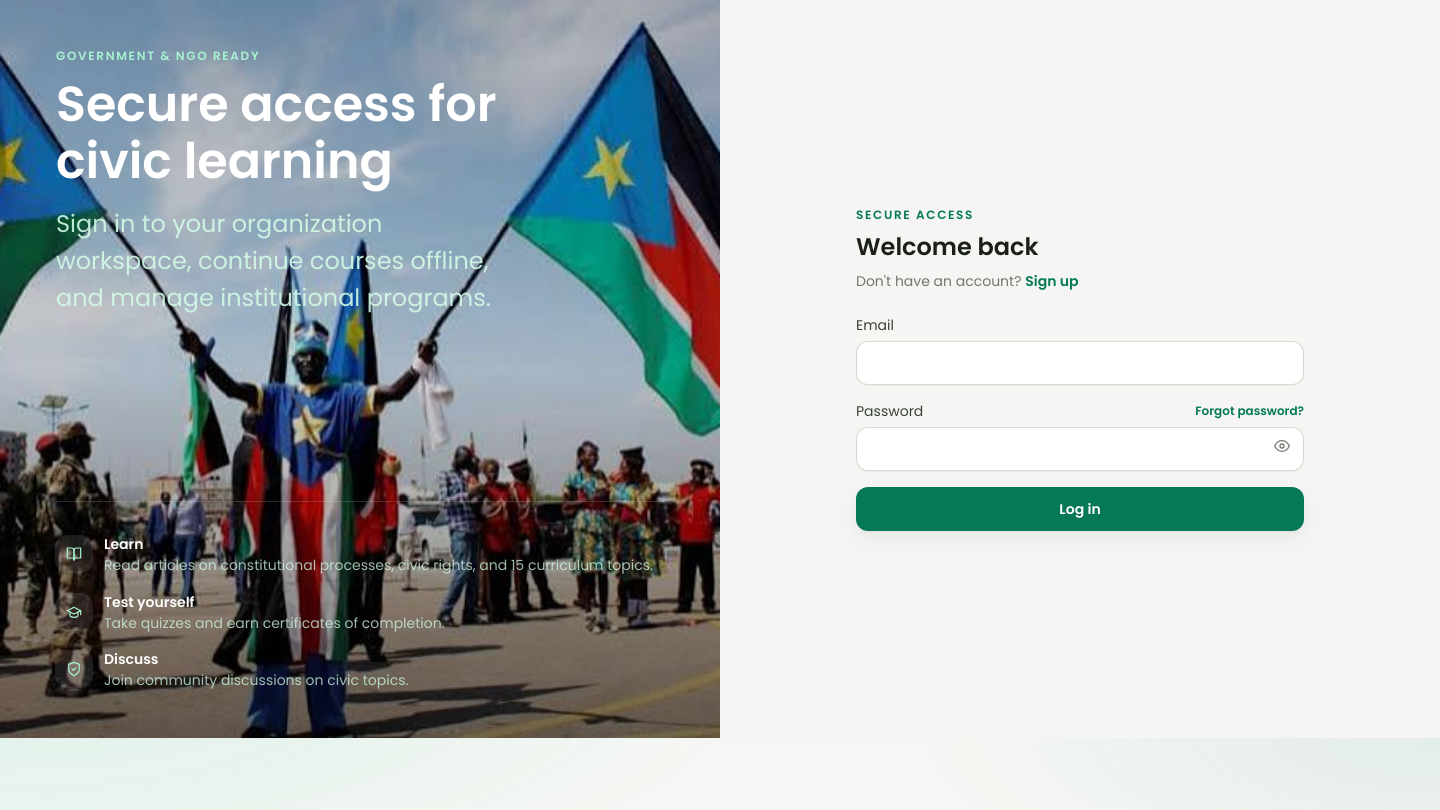
LoginPage › shows error when login fails
Type "bad@test.com" into the field labelled "Email" at (1080, 363), box [856,341,1304,385]
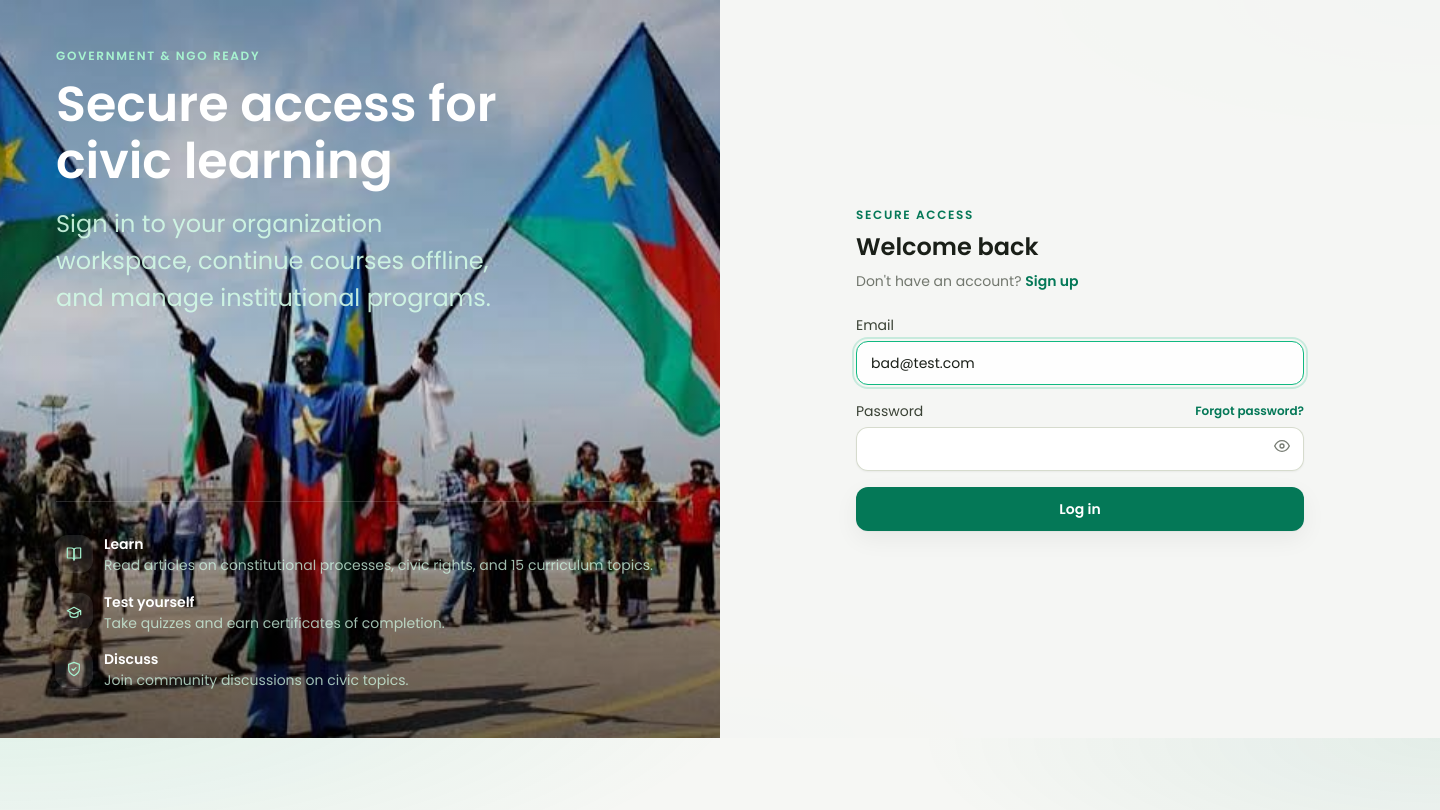
Type "wrong" into the password field labelled "Password" at (1080, 449), box [856,427,1304,471]
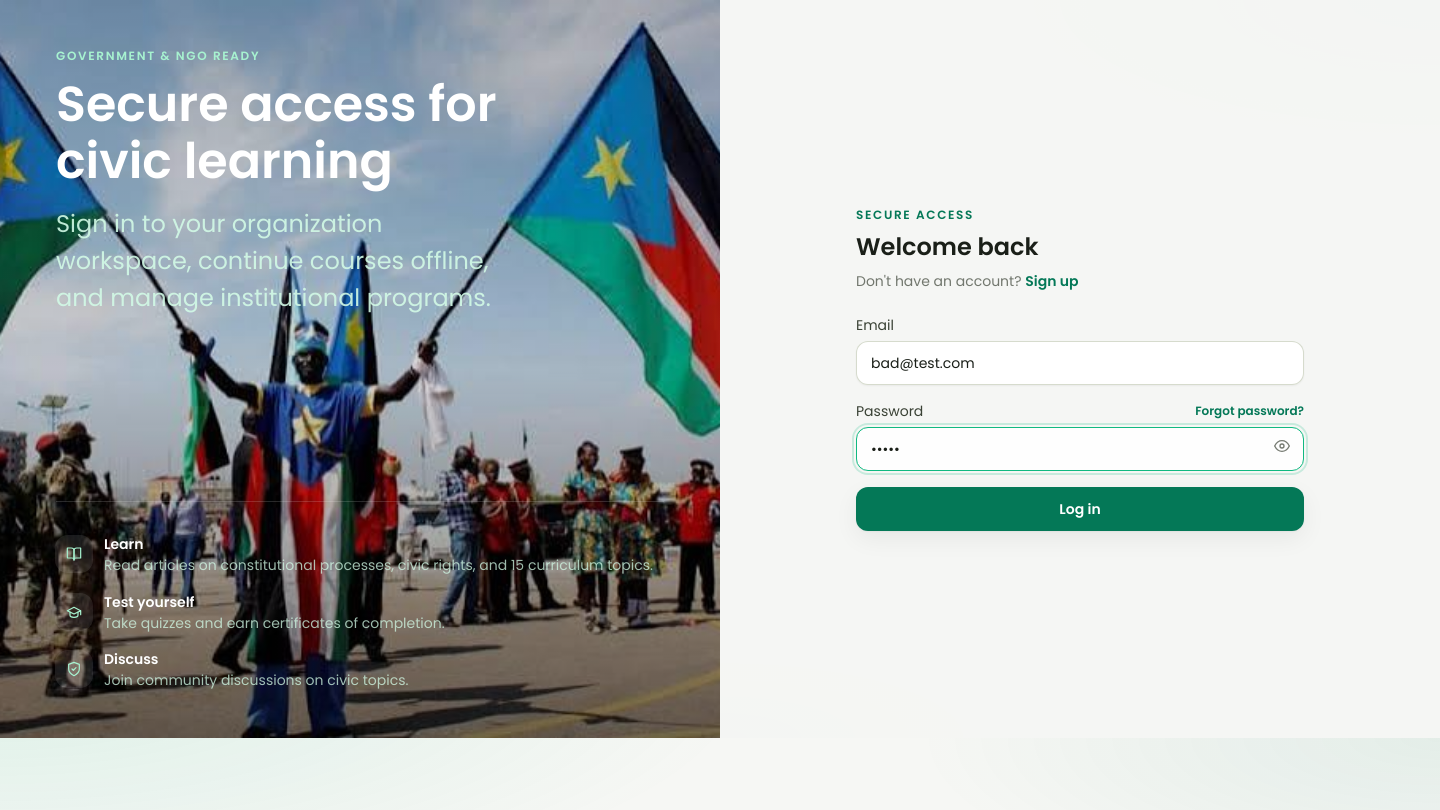
Click the button "Log in" at (1080, 509), box [856,487,1304,531]
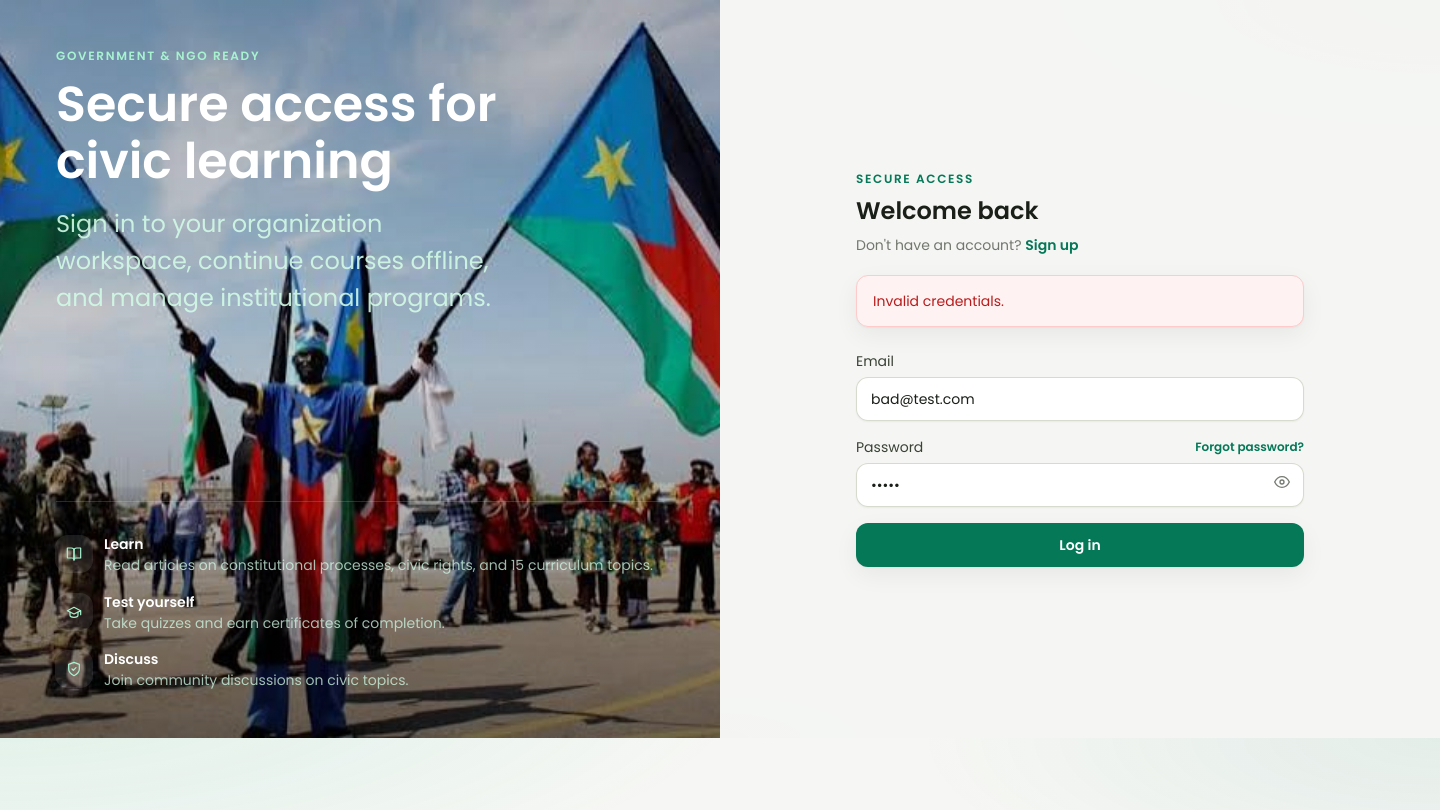
Check: the text "Invalid credentials." is shown, box [856,275,1304,327]
